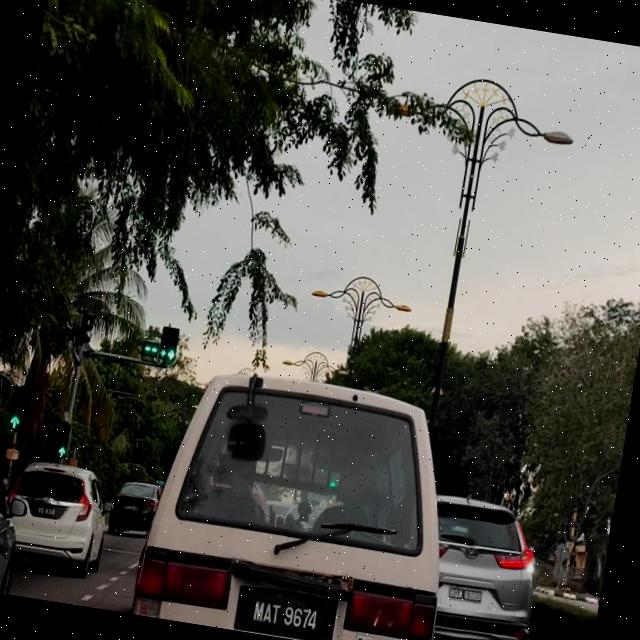green_light: (5, 387, 28, 432), (57, 422, 72, 458), (166, 327, 180, 360), (158, 326, 172, 359)
